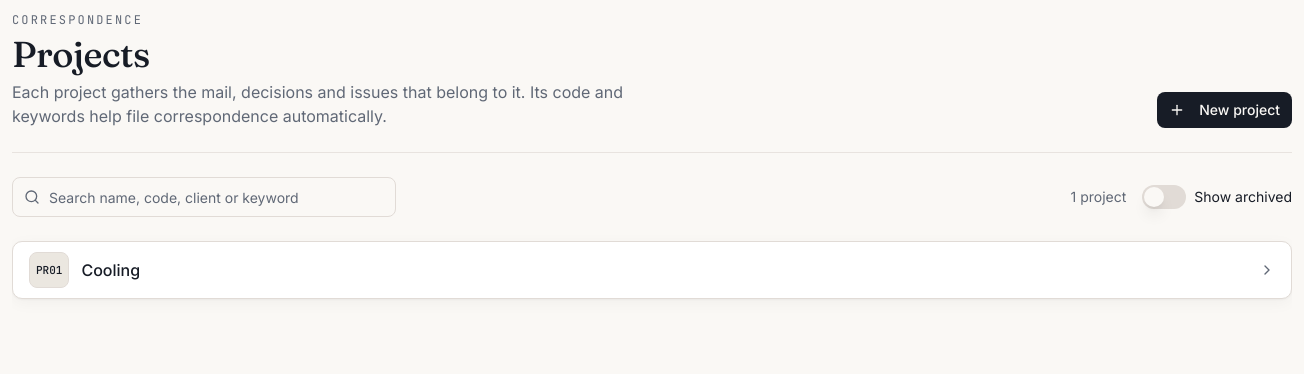
Test: Projects UI › shows archived projects only when asked, marked as archived
This screenshot has width=1304, height=374.
Check: the text "Cooling" is shown, box [81,258,140,282]
Check: the text "Old site" is not shown
Step 1. Click the switch named "show archived" → (1164, 197), box [1142,185,1186,209]
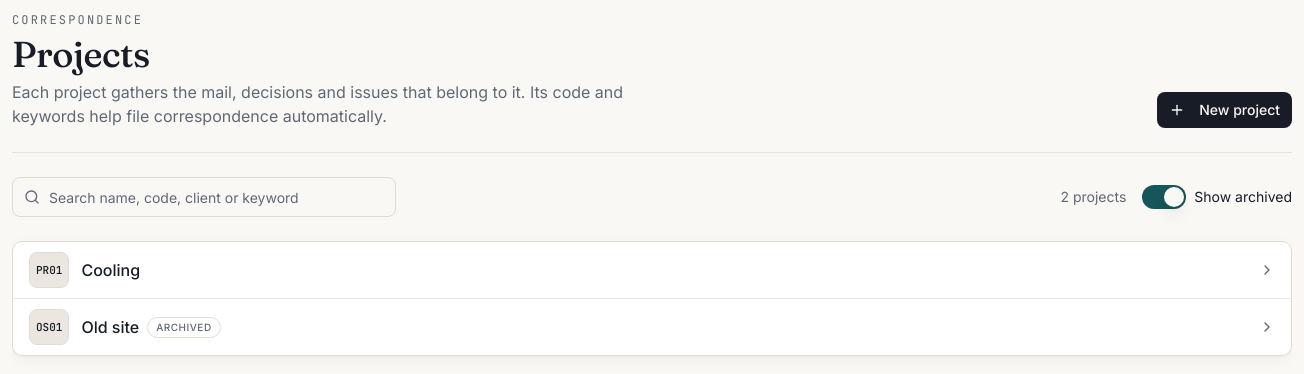
Check: the text "Old site" is shown, box [81,315,139,339]
Check: the text "Archived" is shown, box [147,316,221,338]
